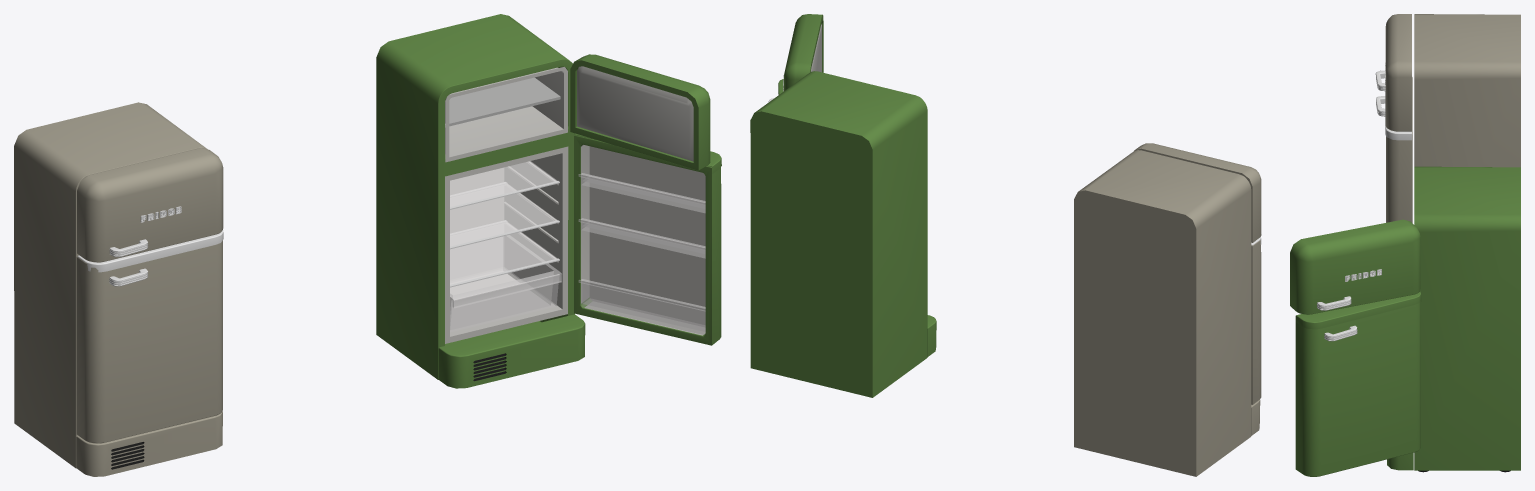
The model's file is old__fridge_frigo.glb.
The picture shows the model from 3 angles, left to right: view 1: azimuth 30°, elevation 25°; view 2: azimuth 150°, elevation 25°; view 3: azimuth 270°, elevation 25°; orthographic projection. The views are drawn at different scales.
Parts seen in each view (by area): view 1: ouvert, ferme; view 2: ferme, ouvert; view 3: ouvert, ferme.
Boxes of the visible parts, x1,y1,x2,y2 form: ouvert: [376, 14, 721, 388]; ferme: [14, 102, 223, 476]; ferme: [1074, 143, 1261, 476]; ouvert: [750, 14, 936, 397]; ouvert: [1290, 166, 1520, 476]; ferme: [1375, 14, 1520, 222].
Bounding box in the file's own units: 8.6 × 4.13 × 3.39.
